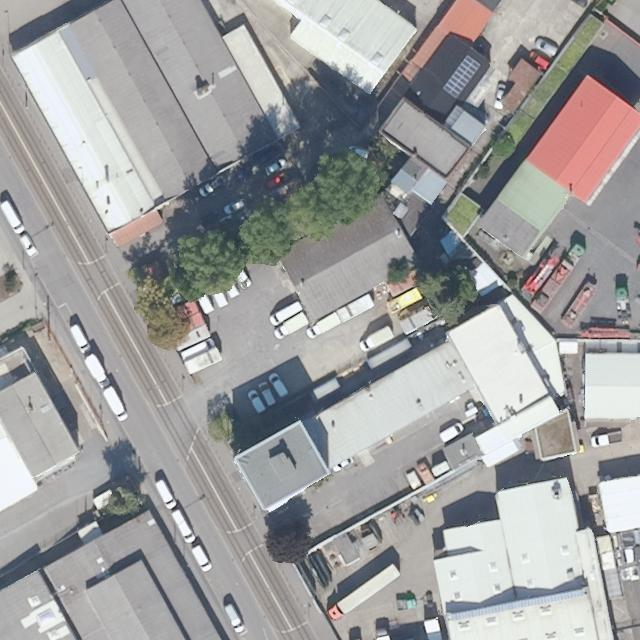PV: (439, 54, 483, 101)
